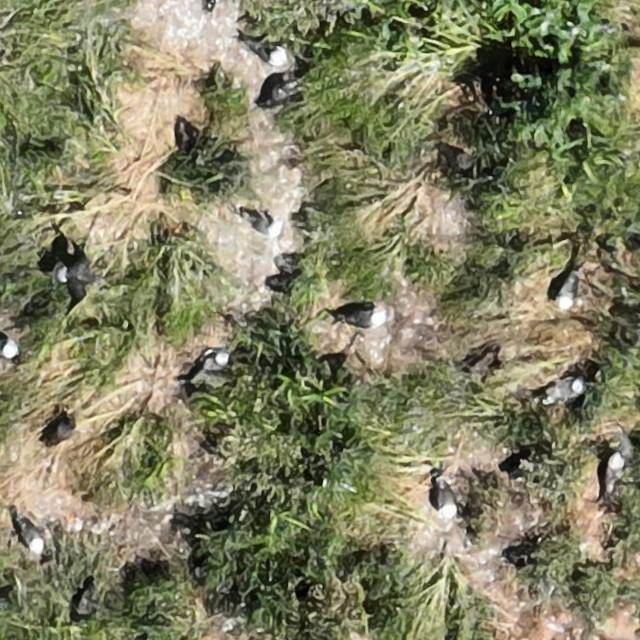umineko: (248, 34, 286, 67), (542, 379, 580, 402), (198, 352, 230, 379), (604, 451, 624, 493), (243, 214, 280, 236), (343, 308, 383, 328), (20, 522, 43, 554), (437, 483, 457, 517), (556, 277, 576, 310), (0, 336, 18, 359)
